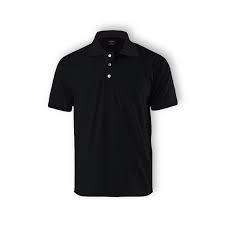S_polo shirt: (47, 31, 179, 190)
